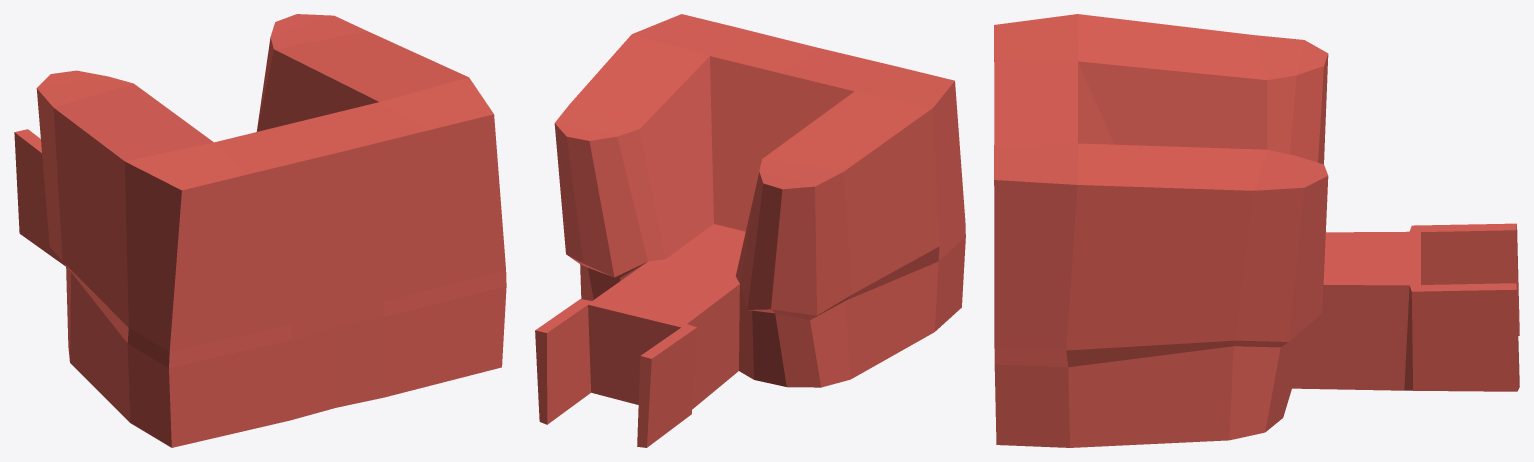
Rendered from gamePlatform.glb.
The picture shows the model from 3 angles, left to right: view 1: azimuth 30°, elevation 25°; view 2: azimuth 150°, elevation 25°; view 3: azimuth 270°, elevation 25°; orthographic projection. The views are drawn at different scales.
Parts seen in each view (by area): view 1: Cube; view 2: Cube; view 3: Cube.
Part boxes in pixels (x1,y1,x2,y2): Cube: [14, 14, 506, 447]; Cube: [535, 14, 965, 447]; Cube: [994, 14, 1519, 447].
Bounding box in the file's own units: 133 × 95.66 × 171.
